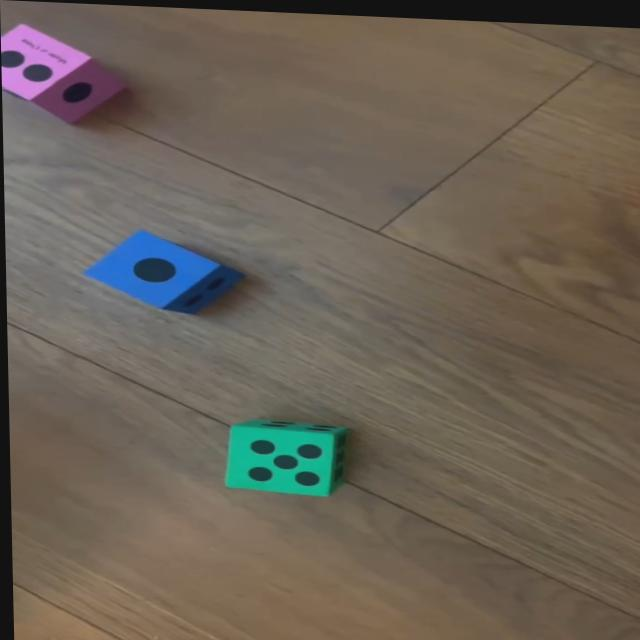blue_block: (83, 227, 243, 313)
